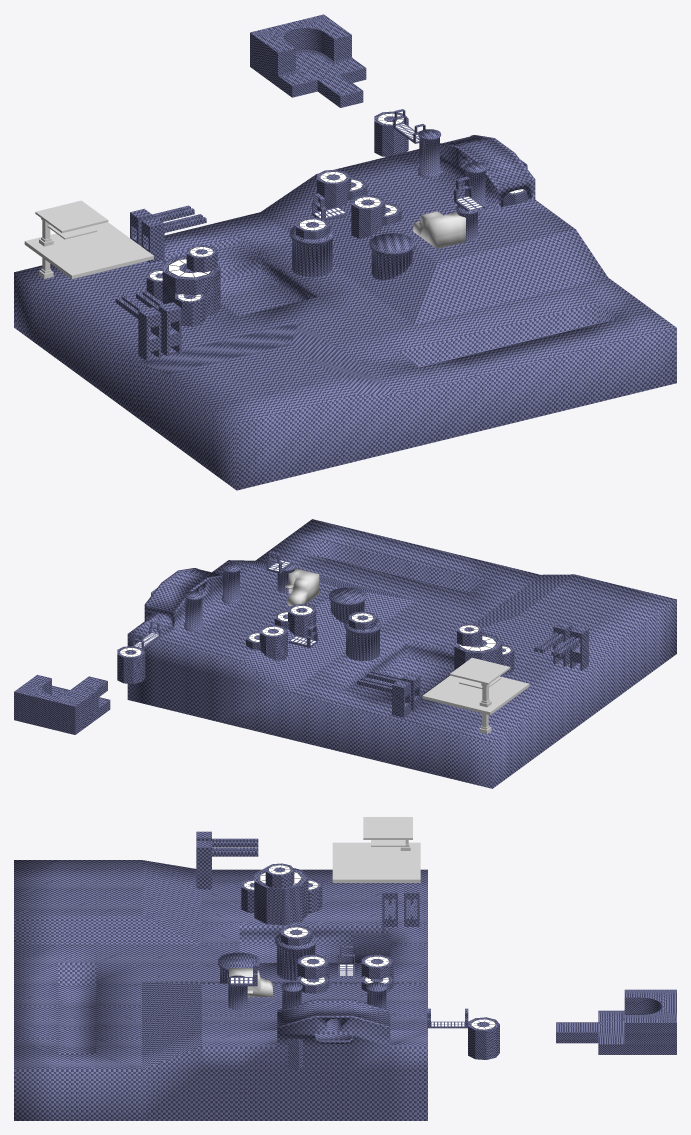
Rendered from MAPV4.glb.
3 views of the same model, one above another, from view 1: azimuth 30°, elevation 25°; view 2: azimuth 150°, elevation 25°; view 3: azimuth 270°, elevation 25° (orthographic). The views are drawn at different scales.
Parts seen in each view (by area): view 1: Cube, Plane, Cube.007, Cylinder.010, thingymcjig.001, thingymcjig.003, Cube.016, Cube.009, Cylinder.006, Cylinder.002, Cube.003, Cylinder.005 (+6 smaller); view 2: Cube, Plane, Cube.007, thingymcjig.003, Cylinder.010, Cylinder.002, Cube.016, thingymcjig.001, Cube.009, Cylinder.005, Cylinder.006, thingymcjig.002 (+7 smaller); view 3: Cube, Plane, Cube.007, Cylinder.010, Cylinder.002, Cube.009, thingymcjig.003, Cube.005, Cylinder.005, Cylinder.006, thingymcjig.001, Cylinder.012 (+9 smaller).
Boxes of the visible parts, x1,y1,x2,y2 form: Cube: [14, 135, 676, 490]; Plane: [250, 14, 366, 107]; Cube.007: [24, 222, 153, 279]; Cylinder.010: [162, 255, 220, 316]; thingymcjig.001: [369, 233, 414, 280]; thingymcjig.003: [289, 226, 334, 277]; Cube.016: [413, 211, 465, 248]; Cube.009: [35, 200, 108, 233]; Cylinder.006: [351, 195, 385, 238]; Cylinder.002: [374, 111, 408, 156]; Cube.003: [138, 307, 161, 360]; Cylinder.005: [317, 169, 350, 211]; Cube: [127, 519, 676, 788]; Plane: [14, 674, 110, 734]; Cube.007: [422, 675, 529, 715]; thingymcjig.003: [344, 619, 381, 661]; Cylinder.010: [454, 632, 502, 676]; Cylinder.002: [117, 646, 145, 683]; Cube.016: [285, 568, 319, 606]; thingymcjig.001: [329, 587, 366, 622]; Cube.009: [450, 657, 510, 684]; Cylinder.005: [259, 625, 287, 660]; Cylinder.006: [288, 604, 316, 639]; thingymcjig.002: [184, 591, 203, 631]; Cube: [14, 860, 427, 1120]; Plane: [556, 989, 676, 1054]; Cube.007: [332, 842, 420, 882]; Cylinder.010: [254, 868, 308, 925]; Cylinder.002: [468, 1017, 499, 1059]; Cube.009: [363, 817, 412, 839]; thingymcjig.003: [275, 933, 317, 980]; Cube.005: [196, 841, 211, 889]; Cylinder.005: [361, 954, 393, 979]; Cylinder.006: [297, 954, 329, 979]; thingymcjig.001: [218, 952, 259, 983]; Cylinder.012: [265, 863, 294, 888].
Size of the model in its own units: 569 by 163 by 771.
Materials: 11 (9 with a texture image).
